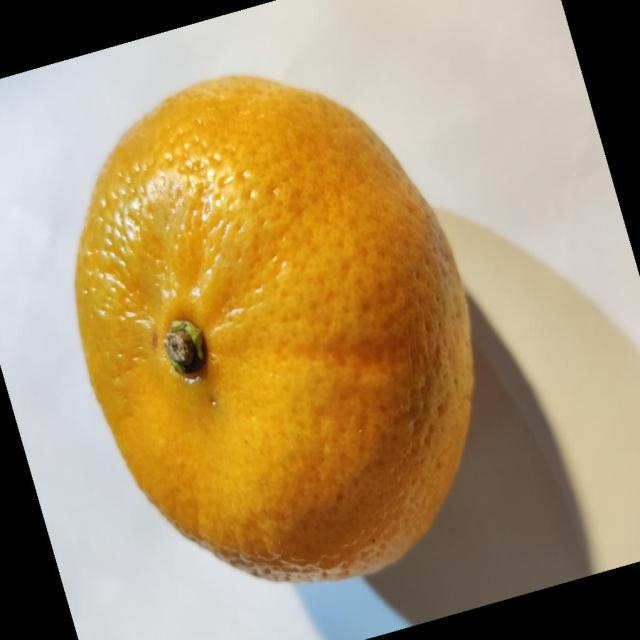agrume: (73, 73, 475, 584)
